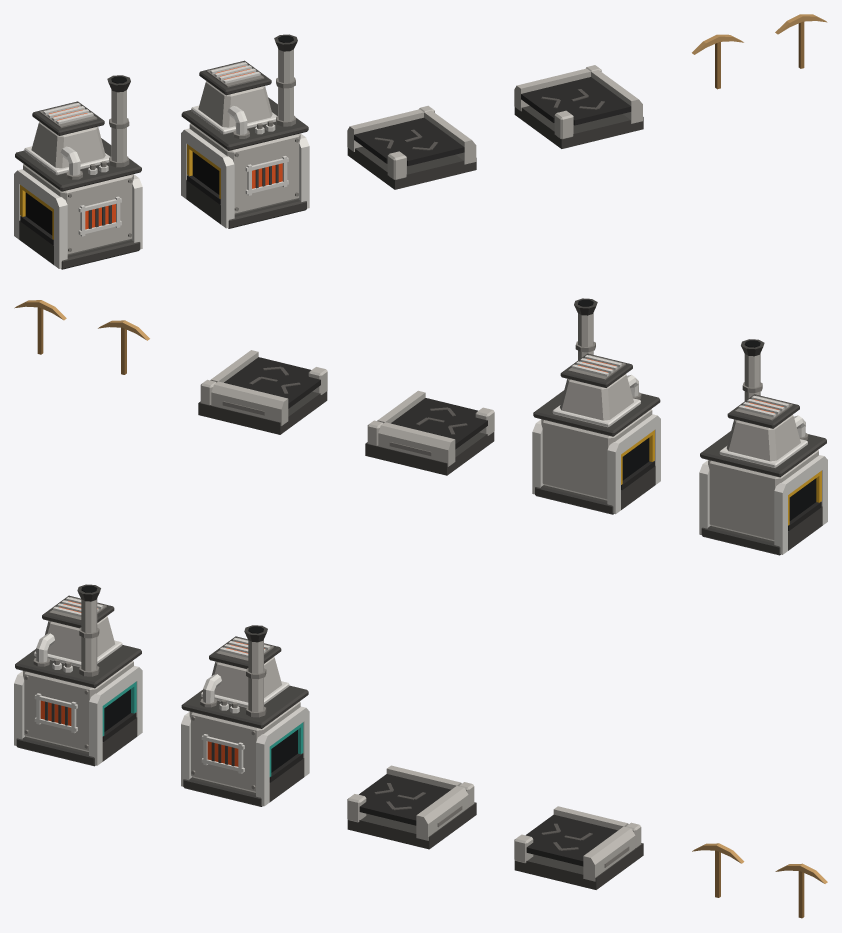
The model's file is import_test.fbx.
The picture shows the model from 3 angles, top to bottom: view 1: azimuth 30°, elevation 25°; view 2: azimuth 150°, elevation 25°; view 3: azimuth 330°, elevation 25°; orthographic projection.
Visible parts, largest first — view 1: tex_smelter, vc_smelter, vc_belt_corner, tex_belt_corner, tex_pick_wood, vc_pick_wood; view 2: vc_smelter, tex_smelter, vc_belt_corner, tex_belt_corner, tex_pick_wood, vc_pick_wood; view 3: vc_smelter, tex_smelter, tex_belt_corner, vc_belt_corner, tex_pick_wood, vc_pick_wood.
Part boxes in pixels (left/top/right/bottom): tex_smelter: left=181, top=34, right=309, bottom=228; vc_smelter: left=14, top=75, right=142, bottom=269; vc_belt_corner: left=347, top=105, right=476, bottom=189; tex_belt_corner: left=514, top=65, right=643, bottom=148; tex_pick_wood: left=775, top=14, right=827, bottom=68; vc_pick_wood: left=692, top=34, right=743, bottom=89; vc_smelter: left=699, top=339, right=827, bottom=555; tex_smelter: left=532, top=298, right=660, bottom=514; vc_belt_corner: left=365, top=390, right=494, bottom=475; tex_belt_corner: left=198, top=350, right=327, bottom=434; tex_pick_wood: left=14, top=300, right=66, bottom=354; vc_pick_wood: left=98, top=320, right=149, bottom=374; vc_smelter: left=14, top=584, right=142, bottom=766; tex_smelter: left=181, top=625, right=309, bottom=806; tex_belt_corner: left=514, top=806, right=643, bottom=889; vc_belt_corner: left=347, top=765, right=476, bottom=849; tex_pick_wood: left=775, top=863, right=827, bottom=918; vc_pick_wood: left=692, top=843, right=744, bottom=897.
Size of the model in its own units: 28.4 by 5.81 by 2.97.
1 material, 1 textured.
